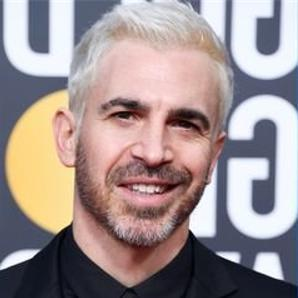Sober: (86, 43, 213, 232)
